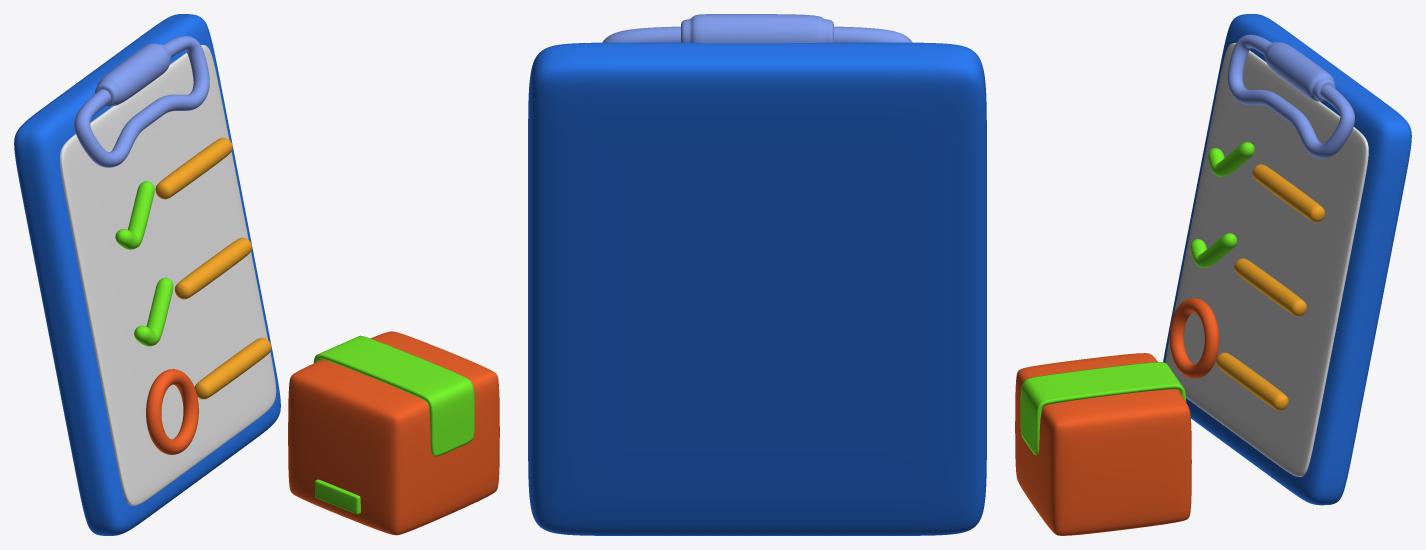
The model's file is distribution-plan-3d-animated-icon-1501013592458.glb.
3 views of the same model, side by side, from view 1: azimuth 30°, elevation 25°; view 2: azimuth 150°, elevation 25°; view 3: azimuth 270°, elevation 25° (orthographic). The views are drawn at different scales.
Visible parts, largest first — view 1: paper, box, board, flap top, Clip arm, data, o, checklist 2, checklist 1, label; view 2: board, Clip arm; view 3: paper, box, board, Clip arm, flap top, data, o, checklist 2, checklist 1.
Boxes of the visible parts, bbox=[...] form: paper: bbox=[60, 45, 276, 505]; box: bbox=[288, 331, 499, 535]; board: bbox=[14, 14, 280, 535]; flap top: bbox=[313, 335, 474, 456]; Clip arm: bbox=[74, 36, 209, 167]; data: bbox=[155, 137, 271, 399]; o: bbox=[146, 369, 198, 454]; checklist 2: bbox=[134, 277, 173, 346]; checklist 1: bbox=[115, 181, 154, 249]; label: bbox=[315, 479, 360, 514]; board: bbox=[528, 42, 986, 535]; Clip arm: bbox=[602, 14, 912, 43]; paper: bbox=[1165, 43, 1368, 476]; box: bbox=[1015, 353, 1191, 535]; board: bbox=[1163, 14, 1411, 505]; Clip arm: bbox=[1227, 34, 1354, 158]; flap top: bbox=[1020, 362, 1186, 455]; data: bbox=[1216, 164, 1325, 410]; o: bbox=[1169, 298, 1219, 378]; checklist 2: bbox=[1190, 233, 1237, 267]; checklist 1: bbox=[1208, 142, 1254, 176].
Size of the model in its own units: 2.8 by 2.88 by 2.68.
